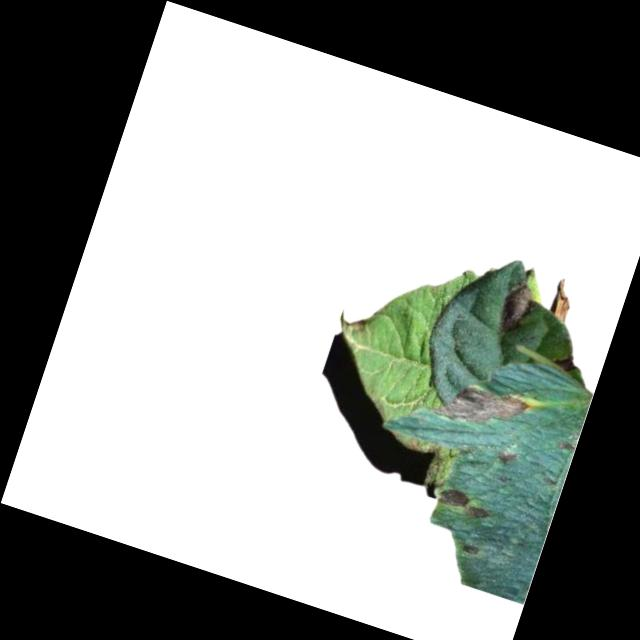Early_blight: (431, 375, 532, 444), (494, 279, 535, 335), (434, 486, 493, 523), (547, 276, 577, 321), (494, 447, 517, 468)
